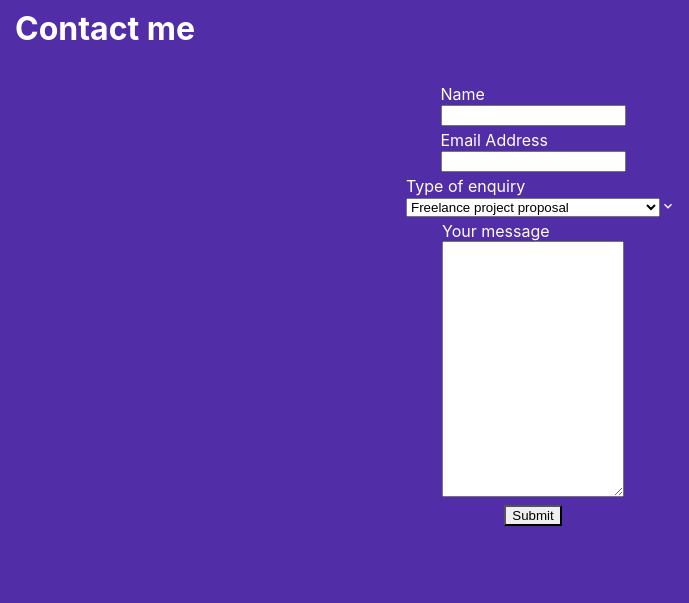
Test: ContactMeSection › Required field validations › should show error message when firstName is empty and field is touched
The image size is (689, 603).
Try to submit
Click the button "Submit" at point(533, 515), box [504,505,562,526]
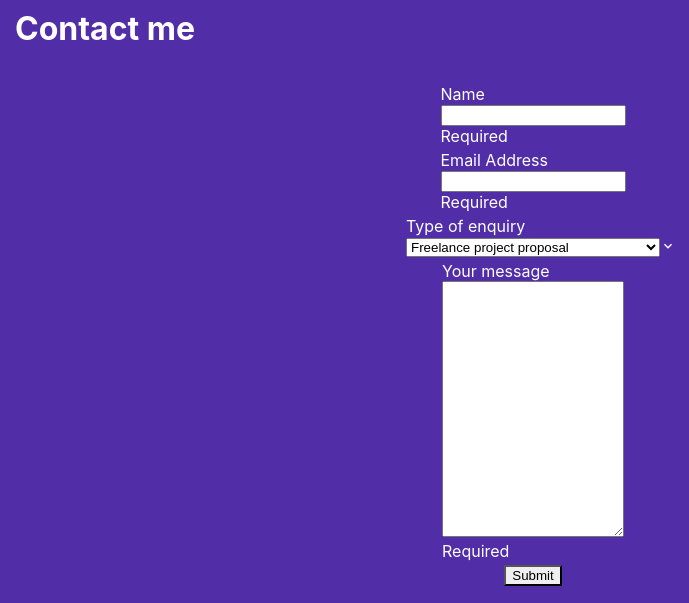
expect the text "Required" below "Name" is shown: met, box [440,126,508,146]
